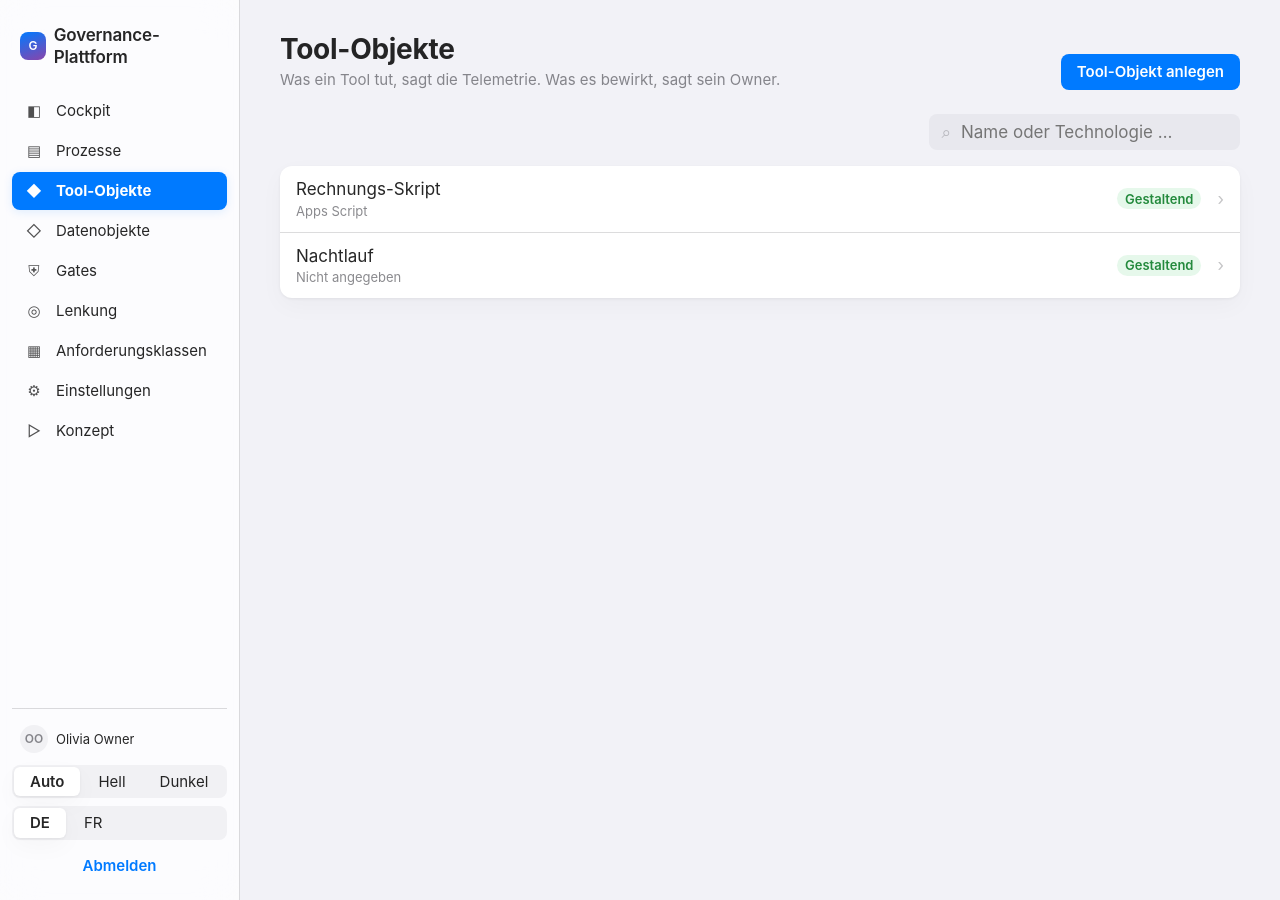
Scenario: Tool-Liste › filtert die Liste ueber die Suche
Expected: the link "Rechnungs-Skript Apps Script Gestaltend ›" is shown, [280,166,1240,232]
Type "Nacht" into the search field named "Suchen" at [1094, 132], box [959,114,1228,150]
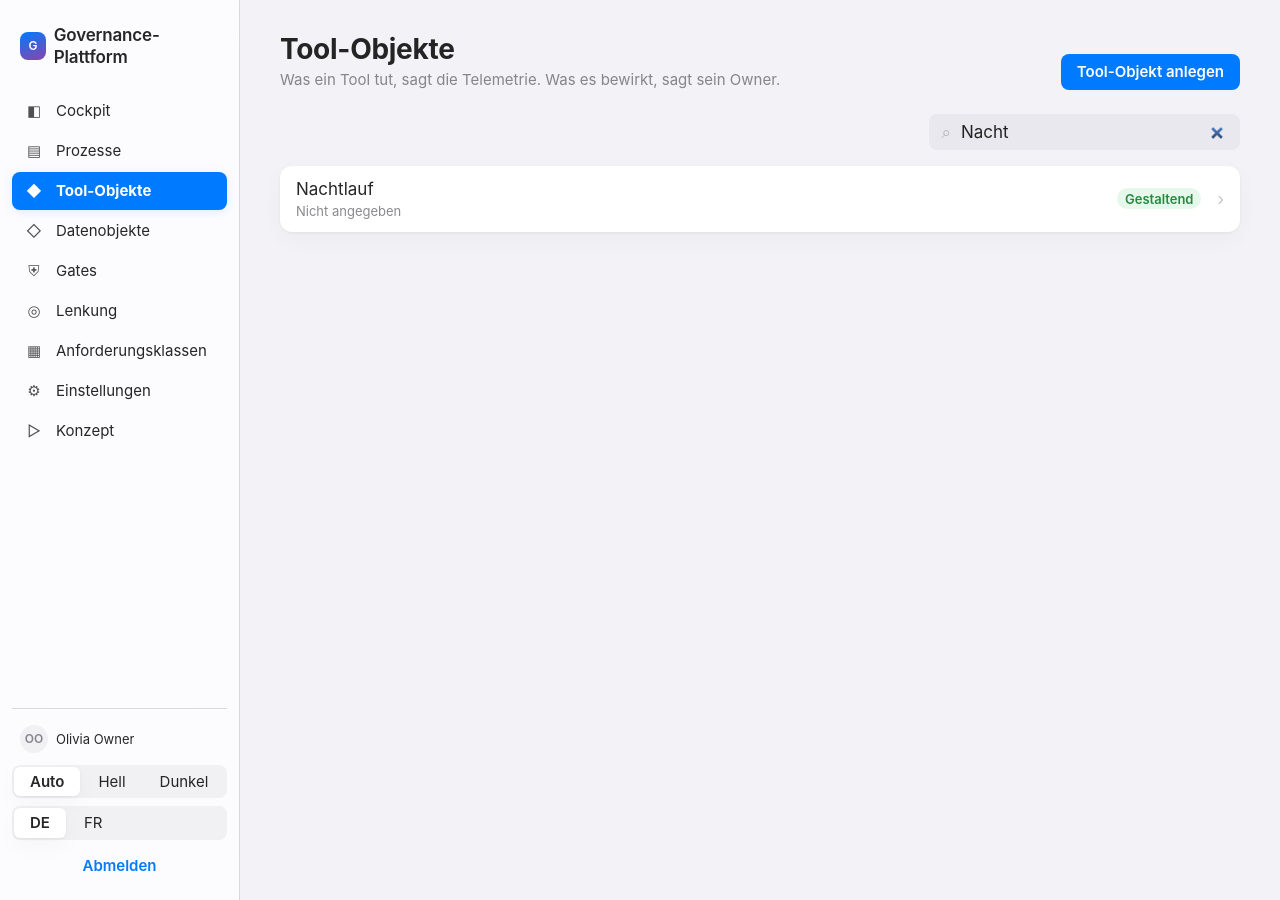
Expected: the link "Nachtlauf Nicht angegeben Gestaltend ›" is shown, [280,166,1240,232]
Now the link "Rechnungs-Skript" is gone
